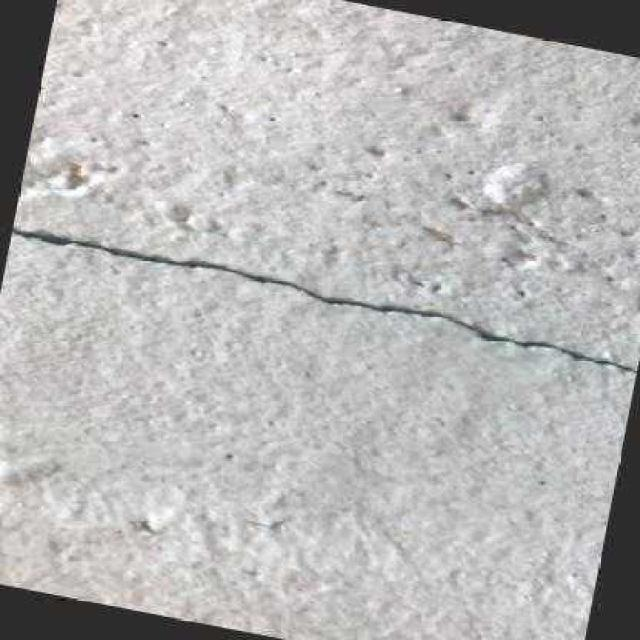D00: (12, 227, 636, 372)
